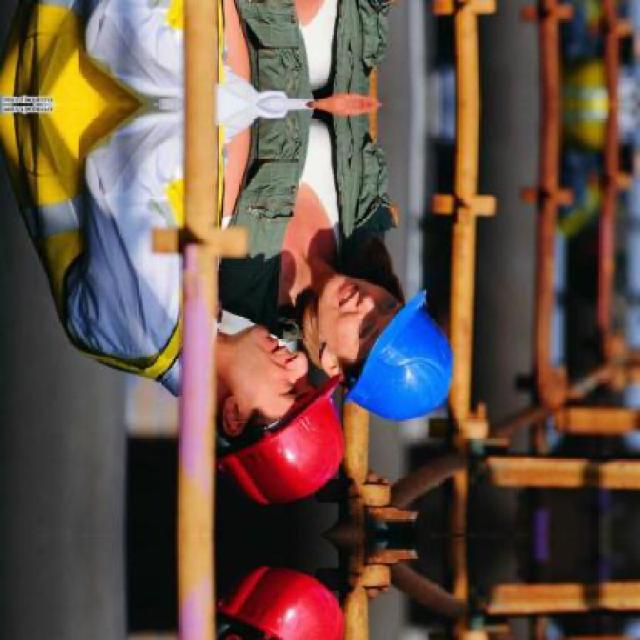con casco: (278, 282, 501, 444), (168, 303, 328, 499)
